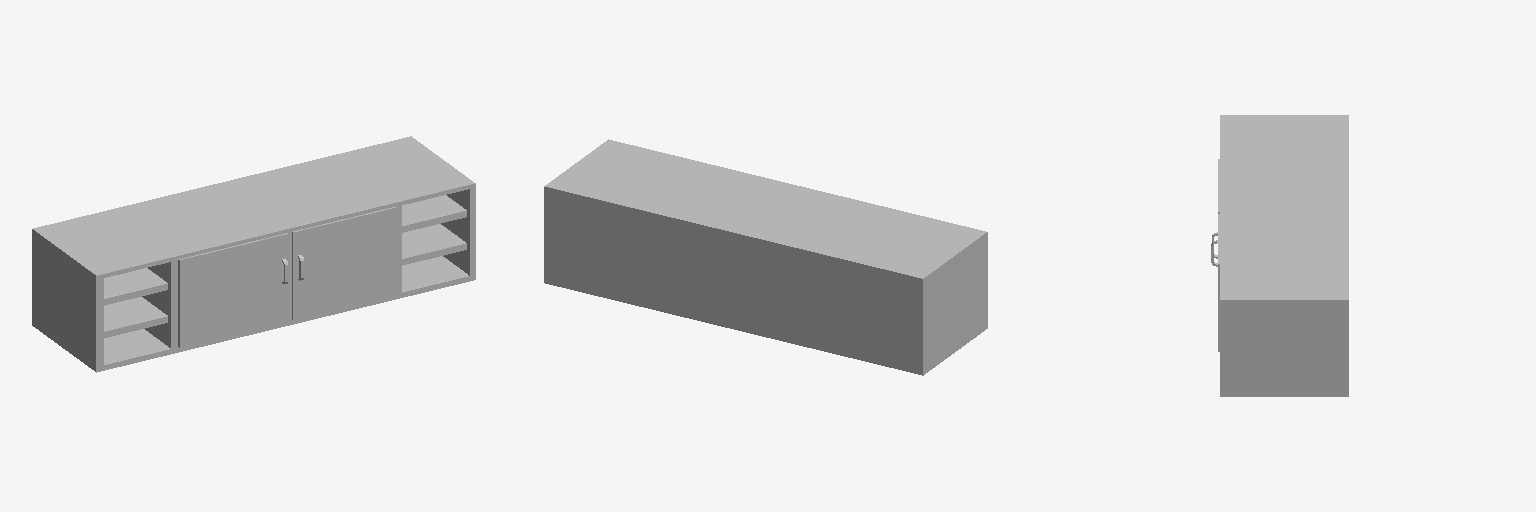
Rendered from tv_table.obj.
3 views of the same model, side by side, from view 1: azimuth 30°, elevation 25°; view 2: azimuth 150°, elevation 25°; view 3: azimuth 270°, elevation 25° (orthographic).
Visible parts, largest first — view 1: House_Pack.obj00f856ee-0940-472c-bbf3-ebf873640a90.221; view 2: House_Pack.obj00f856ee-0940-472c-bbf3-ebf873640a90.221; view 3: House_Pack.obj00f856ee-0940-472c-bbf3-ebf873640a90.221.
Boxes of the visible parts, box(x1,y1,x2,y2) form: House_Pack.obj00f856ee-0940-472c-bbf3-ebf873640a90.221: box(32, 136, 475, 372); House_Pack.obj00f856ee-0940-472c-bbf3-ebf873640a90.221: box(544, 139, 987, 375); House_Pack.obj00f856ee-0940-472c-bbf3-ebf873640a90.221: box(1211, 115, 1348, 396).
Bounding box in the file's own units: 28.62 × 6.98 × 8.97.